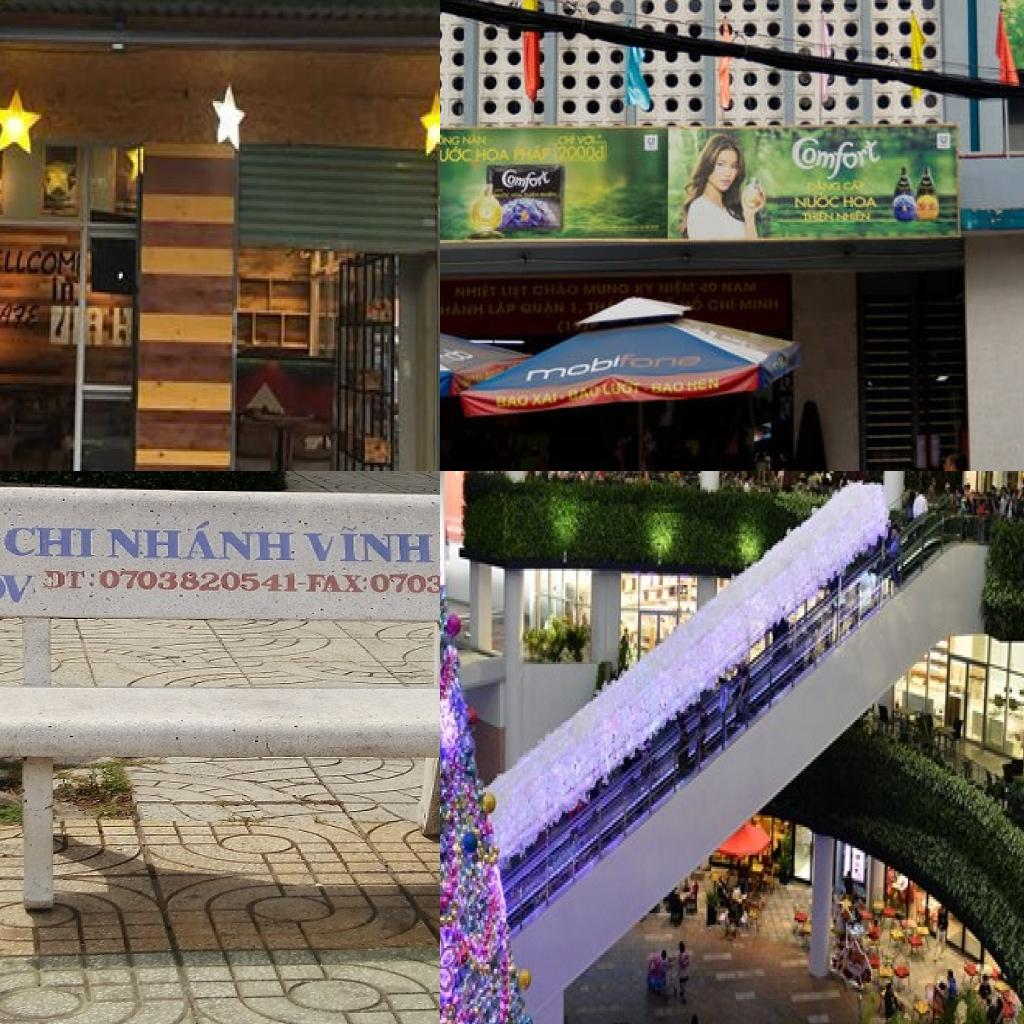text: (106, 518, 299, 565), (524, 347, 704, 385), (299, 523, 439, 566), (98, 568, 302, 594), (788, 136, 886, 181), (1, 525, 99, 560), (0, 244, 80, 276), (84, 306, 136, 351), (368, 569, 440, 598), (302, 571, 372, 596), (0, 296, 44, 333), (38, 568, 98, 592), (0, 569, 38, 606), (499, 169, 556, 193), (790, 193, 842, 213), (454, 282, 499, 304), (602, 379, 644, 400), (685, 373, 722, 396), (531, 282, 581, 299), (566, 382, 602, 405), (582, 282, 632, 298), (554, 145, 598, 163), (520, 301, 568, 317), (51, 274, 77, 303), (841, 195, 882, 213), (440, 302, 485, 318), (648, 379, 687, 397), (474, 148, 514, 165), (440, 145, 475, 164), (495, 392, 531, 410), (512, 147, 552, 163), (659, 281, 699, 296), (740, 298, 782, 312), (722, 281, 760, 296), (531, 388, 559, 408), (487, 302, 518, 317), (500, 284, 530, 299), (708, 298, 736, 312), (634, 282, 655, 298), (440, 132, 462, 146), (699, 281, 719, 296), (447, 471, 472, 482), (595, 145, 608, 165), (570, 301, 585, 317), (939, 133, 951, 146)
